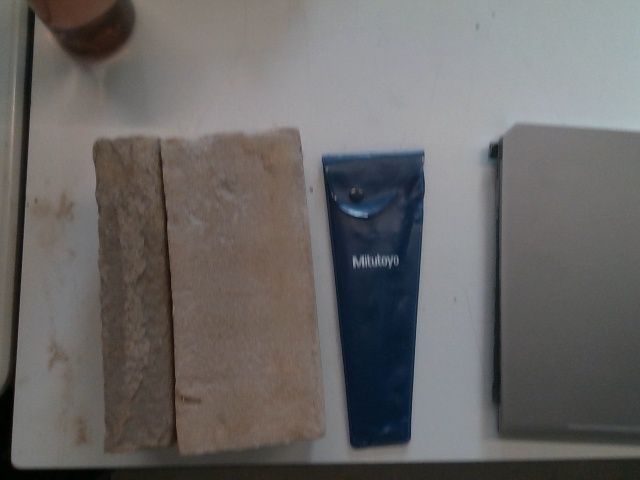brick: (158, 130, 325, 448)
